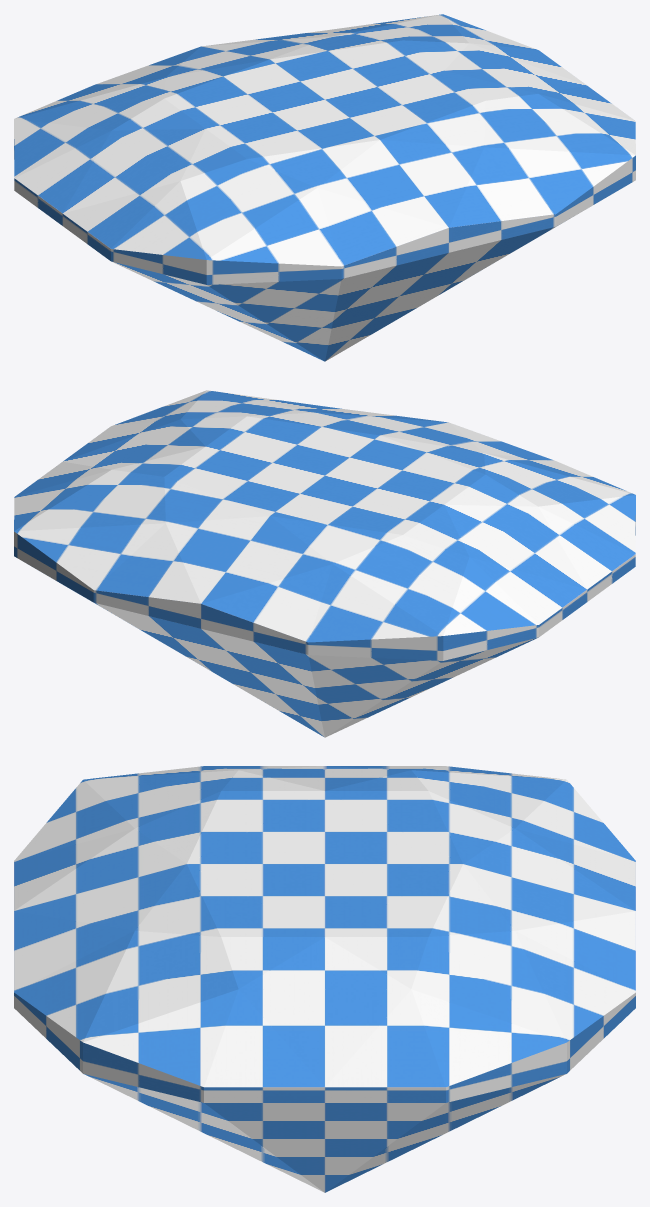
Rendered from OvalCutPointy.FBX.
The picture shows the model from 3 angles, top to bottom: view 1: azimuth 30°, elevation 25°; view 2: azimuth 150°, elevation 25°; view 3: azimuth 270°, elevation 25°; orthographic projection. The views are drawn at different scales.
Parts seen in each view (by area): view 1: OvalCutPointy; view 2: OvalCutPointy; view 3: OvalCutPointy.
Part boxes in pixels (x1,y1,x2,y2): OvalCutPointy: (14, 14, 635, 361); OvalCutPointy: (14, 390, 635, 737); OvalCutPointy: (14, 766, 635, 1192).
Size of the model in its own units: 1.4 by 0.6668 by 1.14.
